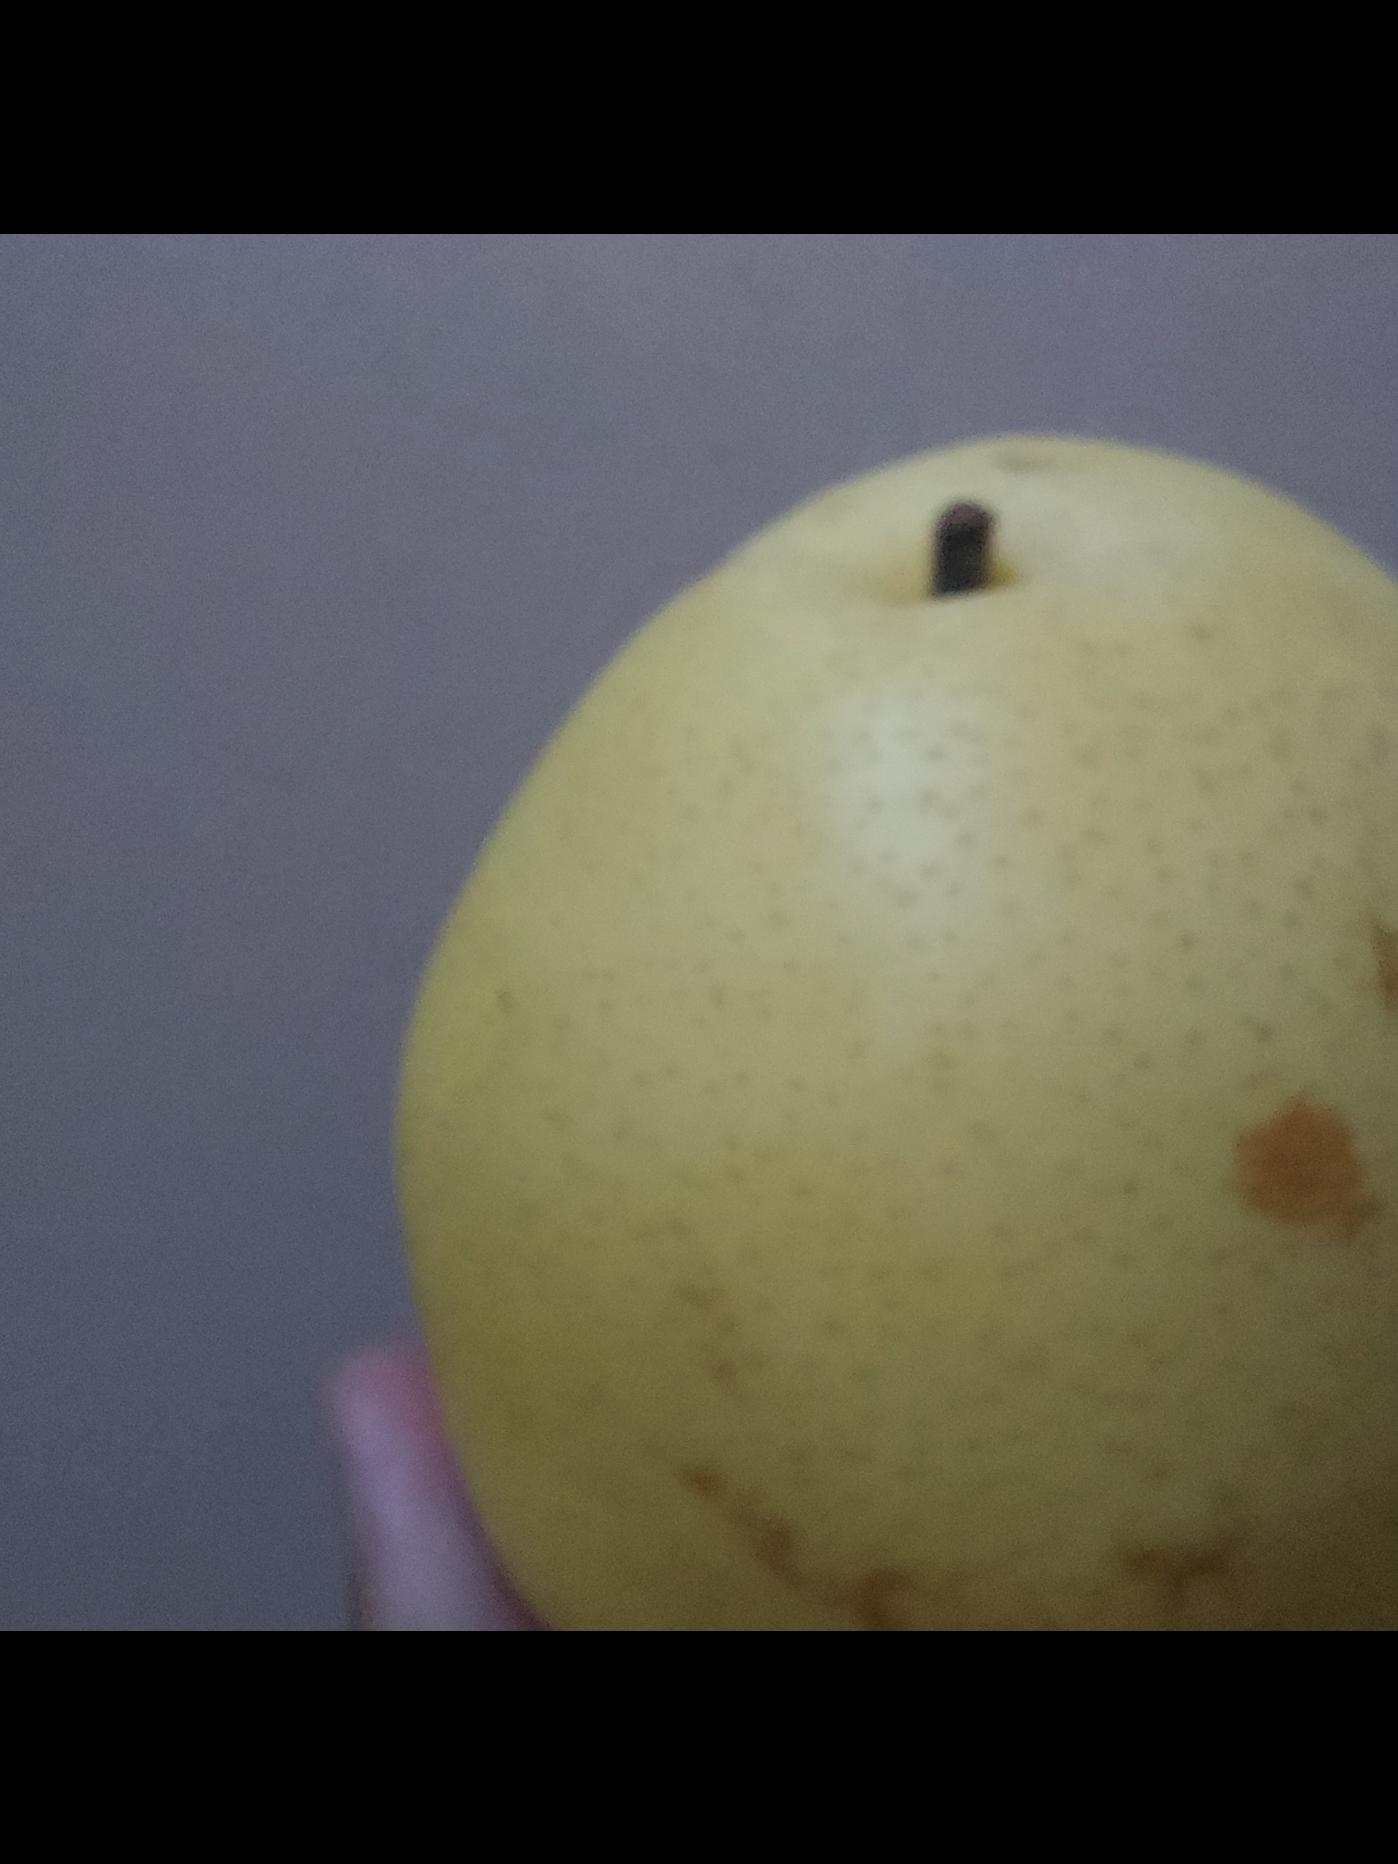Good Pear: (399, 429, 1398, 1631)
